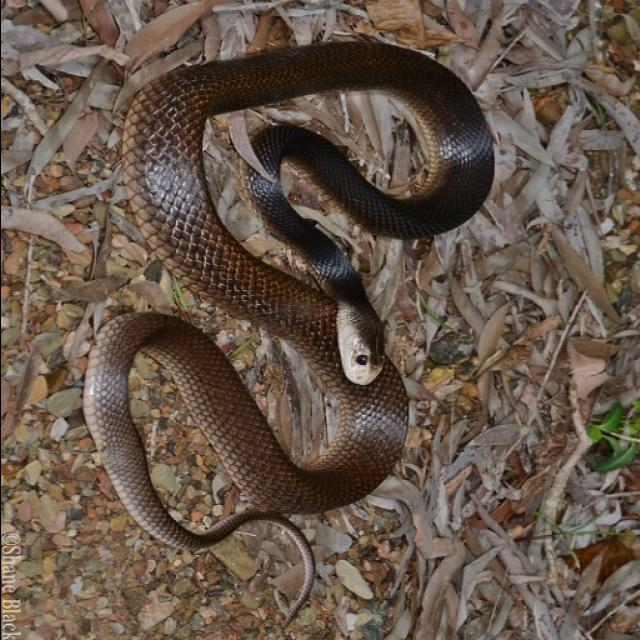snake: (64, 26, 504, 592)
